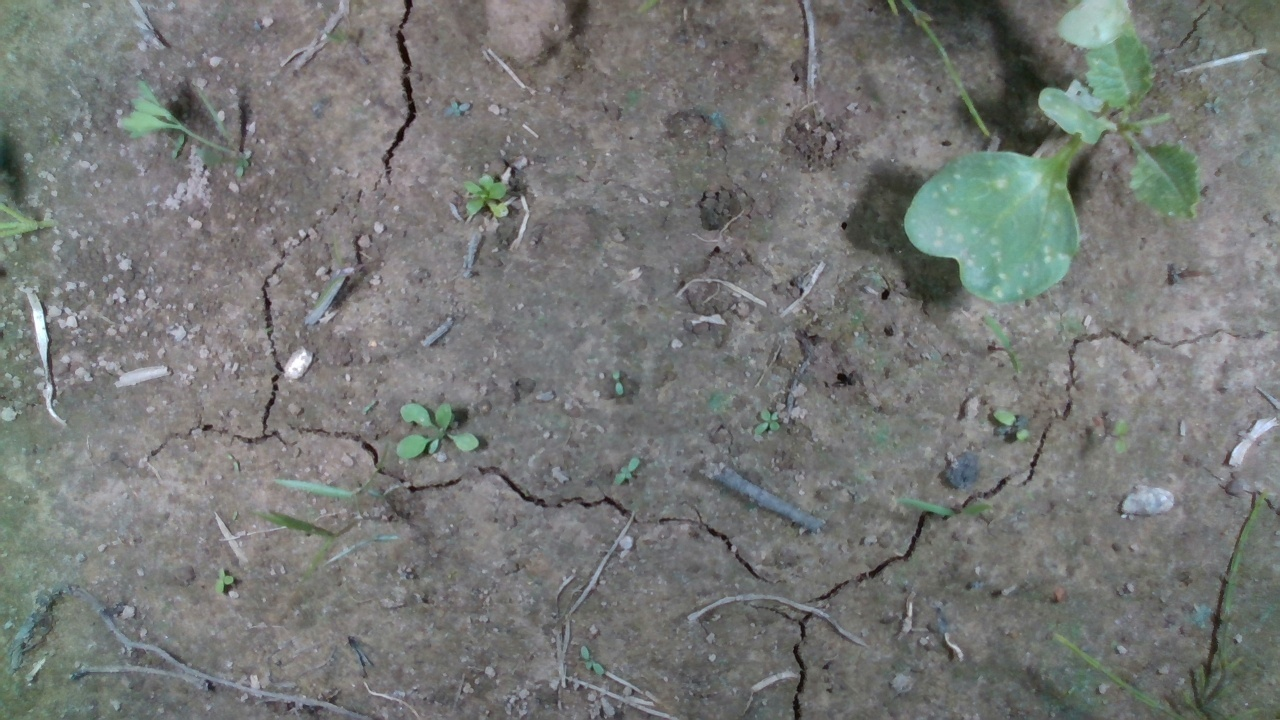weed: (986, 405, 1036, 444), (606, 452, 646, 488)
